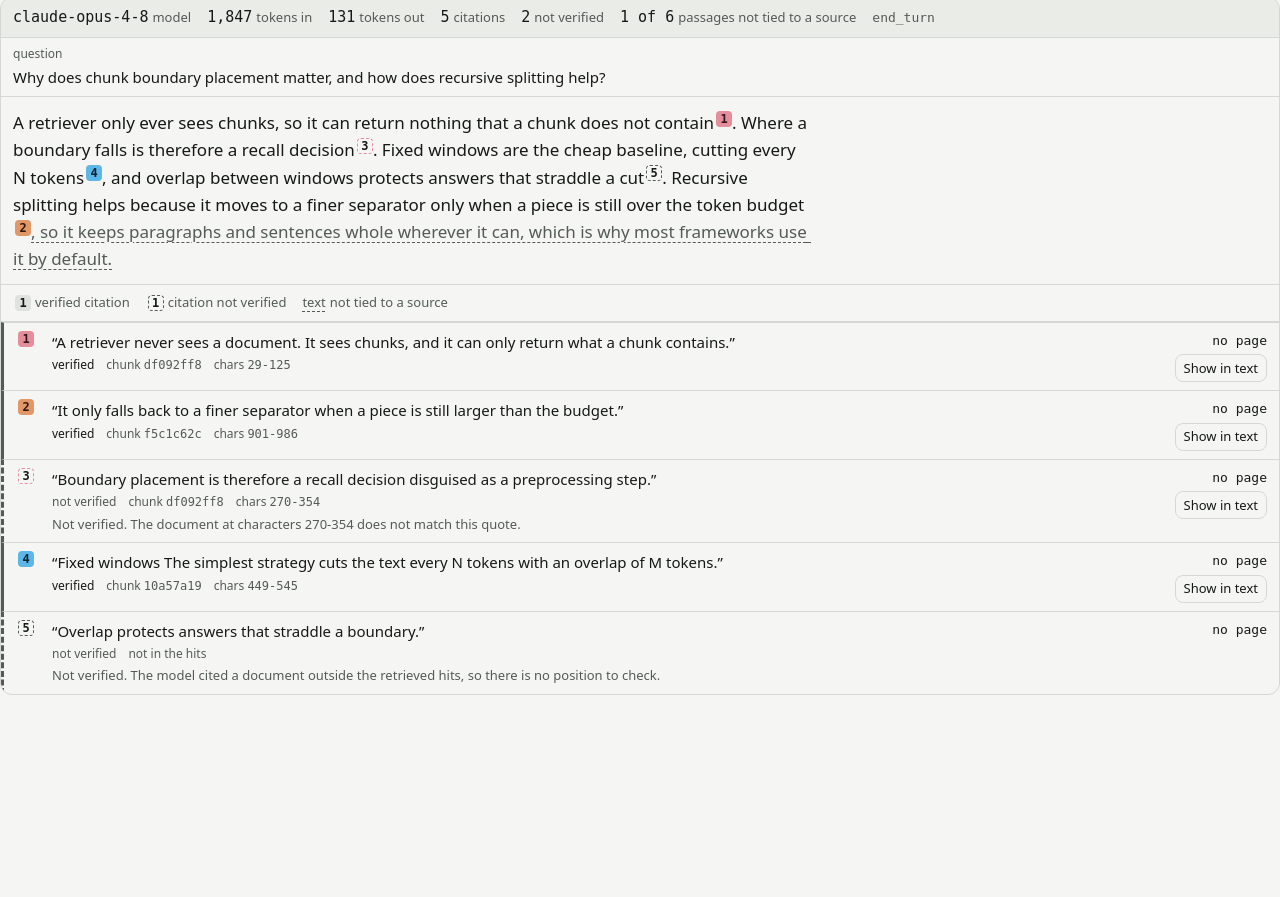
a document without pages › Ask: an unverified citation marks its whole piece
What coordinates should you click on to do the following:
click the 3rd button "Show in text"
I would click on:
 (1221, 505)
Its box is [1174,491,1267,519].
(page scrolled)
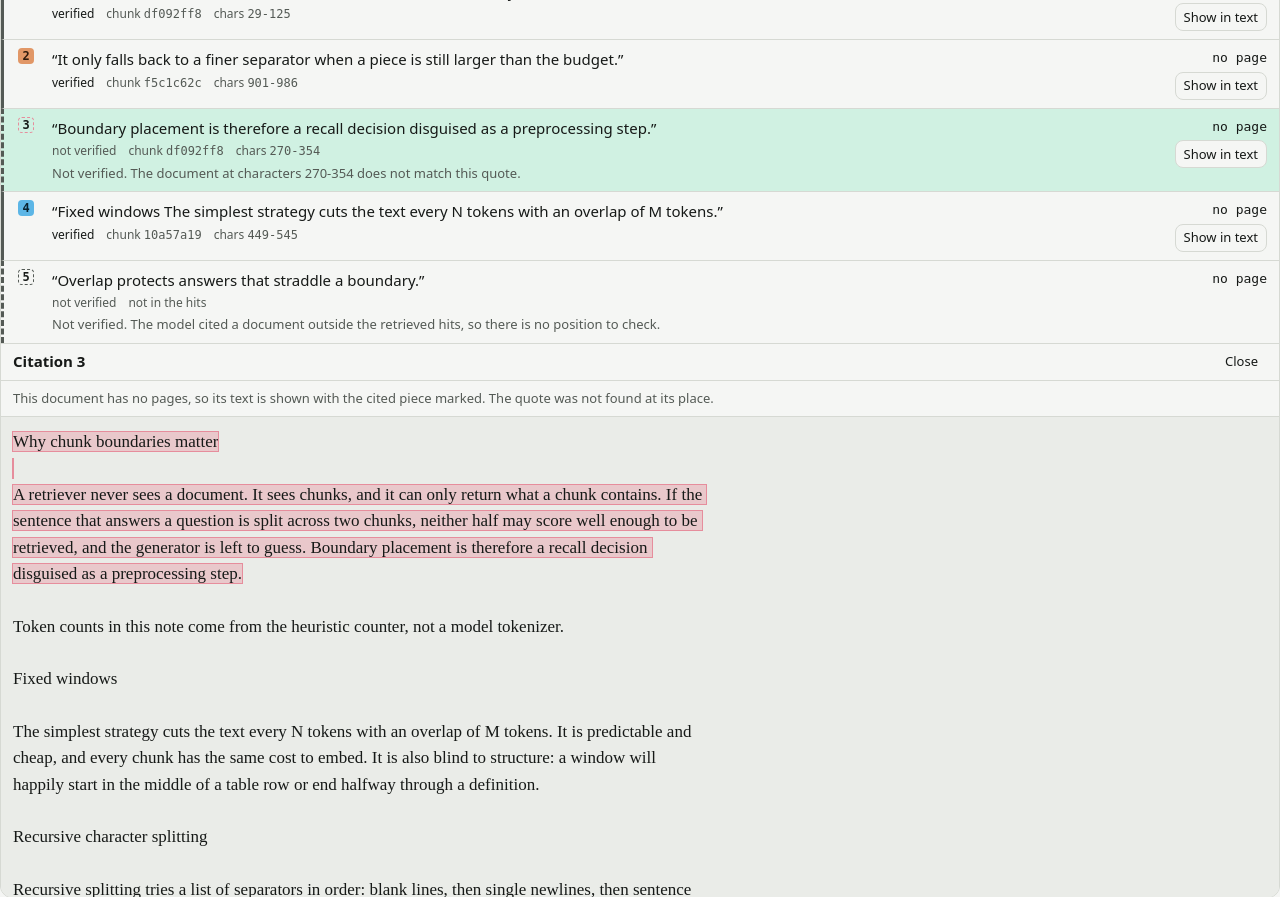
Now the element named "Document text" is shown
